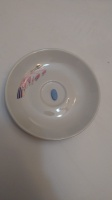Majezik: (50, 88, 58, 101)
